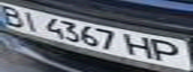3: (57, 19, 81, 44)
4: (39, 15, 66, 38)
6: (78, 24, 100, 47)
7: (97, 27, 118, 52)
B: (0, 2, 27, 27)
H: (127, 33, 157, 60)
I: (18, 8, 45, 34)
P: (148, 37, 190, 63)
